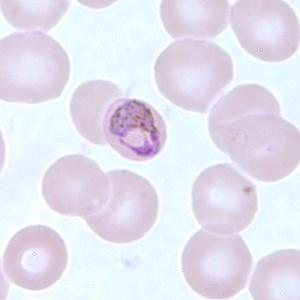Infected: (103, 99, 168, 162)
Uninfected: (81, 168, 158, 243), (155, 39, 234, 112), (219, 113, 300, 182), (0, 28, 70, 104), (181, 225, 253, 298), (207, 83, 282, 152), (191, 162, 258, 234), (229, 0, 300, 64), (41, 155, 111, 216), (4, 225, 68, 290), (70, 79, 126, 147), (159, 0, 232, 45)
